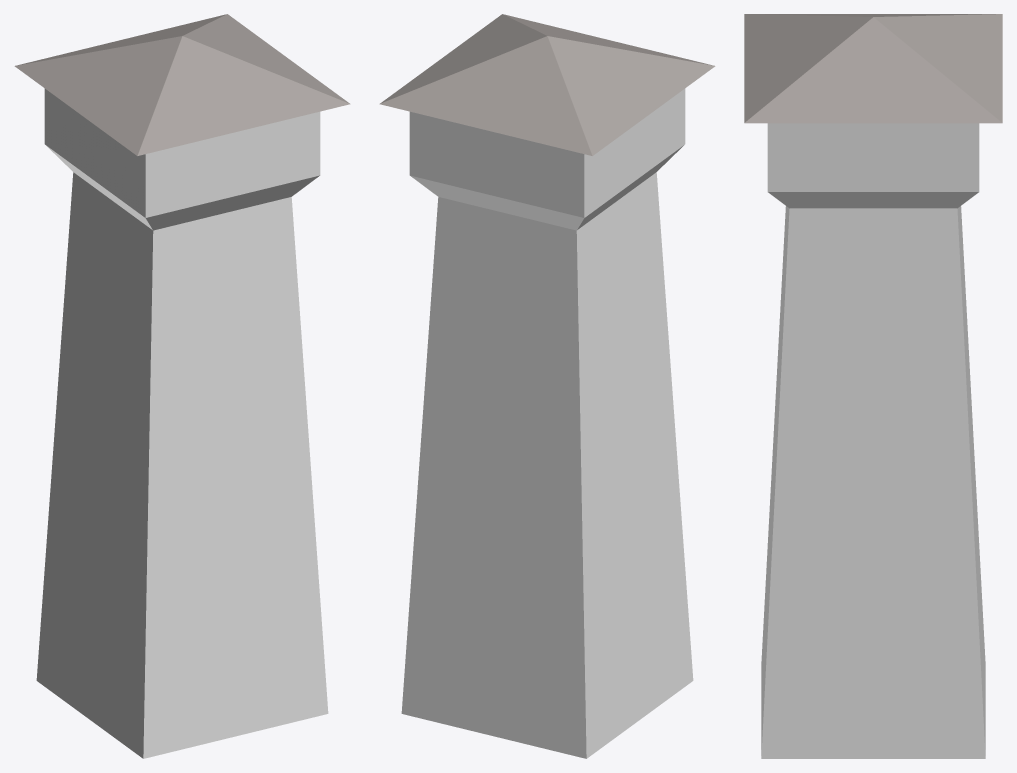
The model's file is Arena_Wall_Column.fbx.
3 renders of one model, left to right at view 1: azimuth 30°, elevation 25°; view 2: azimuth 150°, elevation 25°; view 3: azimuth 270°, elevation 25°, orthographic. The views are drawn at different scales.
Visible parts, largest first — view 1: Arena_Wall_Column; view 2: Arena_Wall_Column; view 3: Arena_Wall_Column.
Boxes of the visible parts, x1,y1,x2,y2 form: Arena_Wall_Column: (14,14,350,758); Arena_Wall_Column: (379,14,715,758); Arena_Wall_Column: (744,14,1002,758).
Bounding box in the file's own units: 305 × 903 × 305.
